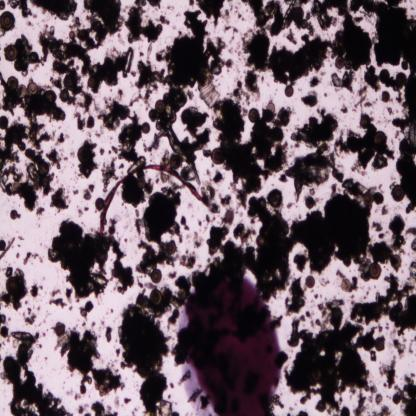Background material: (279, 306, 384, 416), (243, 188, 370, 277), (210, 98, 293, 197), (159, 9, 227, 109), (118, 302, 178, 414), (50, 220, 134, 296), (38, 25, 132, 90), (0, 341, 74, 416), (286, 108, 345, 191), (351, 262, 416, 331), (309, 0, 373, 70), (100, 95, 146, 165), (372, 1, 416, 72), (268, 33, 333, 81), (393, 87, 416, 214), (55, 330, 99, 395), (24, 87, 66, 150), (147, 107, 211, 148), (344, 126, 393, 172), (369, 210, 408, 264), (127, 0, 165, 46), (133, 235, 174, 276), (81, 0, 125, 36), (24, 148, 54, 196), (242, 27, 270, 75), (10, 34, 40, 76), (0, 123, 29, 166), (0, 268, 27, 310), (29, 0, 78, 21), (241, 0, 273, 31), (0, 72, 23, 115), (134, 61, 170, 88), (91, 367, 126, 393), (395, 371, 416, 414), (207, 225, 234, 258), (286, 275, 307, 314), (68, 88, 99, 114), (196, 0, 225, 27), (273, 1, 297, 32), (0, 162, 21, 196), (101, 158, 119, 193), (330, 70, 356, 94), (379, 356, 397, 390), (19, 182, 38, 213), (50, 186, 70, 214), (388, 330, 408, 358), (244, 70, 262, 99), (230, 78, 250, 104), (8, 0, 33, 19), (203, 182, 219, 210), (366, 66, 382, 93), (91, 400, 118, 415), (0, 235, 16, 260), (77, 163, 98, 182), (177, 251, 197, 269), (46, 148, 62, 170), (180, 166, 199, 184), (268, 189, 284, 210), (354, 394, 369, 416), (357, 86, 372, 108), (300, 90, 318, 108), (372, 222, 386, 242), (24, 251, 44, 265), (166, 308, 179, 329), (80, 300, 94, 318), (179, 214, 191, 233), (219, 191, 232, 208), (74, 111, 85, 131), (192, 231, 204, 249), (210, 170, 225, 184), (315, 398, 328, 414), (49, 298, 67, 309), (287, 30, 298, 46), (84, 184, 95, 200), (63, 288, 74, 303), (359, 115, 371, 128), (309, 76, 322, 88), (374, 392, 384, 406), (86, 115, 96, 129), (25, 313, 36, 325), (106, 327, 113, 345), (30, 284, 39, 298), (280, 172, 289, 186), (56, 133, 66, 145), (136, 275, 144, 290), (49, 288, 61, 298), (168, 269, 178, 281), (370, 349, 378, 363), (224, 58, 234, 69), (35, 206, 45, 216), (354, 14, 364, 24), (0, 313, 7, 327), (295, 410, 310, 416), (206, 213, 213, 225), (123, 396, 132, 405), (71, 188, 80, 197), (114, 347, 121, 358), (78, 207, 84, 219), (78, 405, 85, 415), (26, 306, 32, 316), (99, 147, 105, 157), (90, 320, 97, 328), (134, 210, 139, 220), (15, 252, 20, 260), (84, 206, 89, 212), (82, 321, 86, 328), (69, 306, 73, 311)
Cotton: (98, 164, 206, 235)
Diatom: (11, 328, 38, 342), (77, 146, 93, 164), (0, 11, 15, 30), (391, 184, 405, 204), (368, 261, 382, 280), (378, 68, 392, 86), (372, 131, 388, 146), (6, 74, 19, 92), (5, 44, 18, 62), (96, 380, 109, 398), (150, 288, 162, 307), (6, 276, 18, 294), (63, 74, 77, 89), (211, 148, 224, 164), (389, 255, 402, 271), (150, 268, 163, 284), (362, 189, 375, 205), (304, 193, 316, 210), (396, 71, 408, 88), (247, 108, 260, 123), (334, 55, 346, 70), (292, 7, 304, 22), (44, 89, 56, 104), (16, 85, 28, 99), (304, 275, 315, 290), (166, 240, 177, 255), (224, 210, 235, 224), (27, 81, 38, 95), (374, 337, 385, 351), (39, 161, 50, 175), (374, 191, 384, 206), (55, 323, 66, 336), (94, 197, 105, 210), (341, 278, 351, 292), (178, 289, 188, 303), (0, 114, 8, 131), (141, 122, 151, 134), (284, 85, 294, 97), (86, 77, 96, 89), (10, 180, 20, 192), (380, 90, 390, 102), (156, 100, 164, 114), (400, 60, 410, 71), (256, 235, 266, 246), (392, 394, 402, 405), (137, 178, 146, 190), (10, 209, 19, 221), (148, 43, 154, 61), (0, 325, 9, 337), (61, 90, 70, 102), (340, 406, 351, 415), (266, 101, 275, 112), (0, 241, 7, 252), (0, 1, 5, 12)
Pen: (180, 274, 283, 416)
